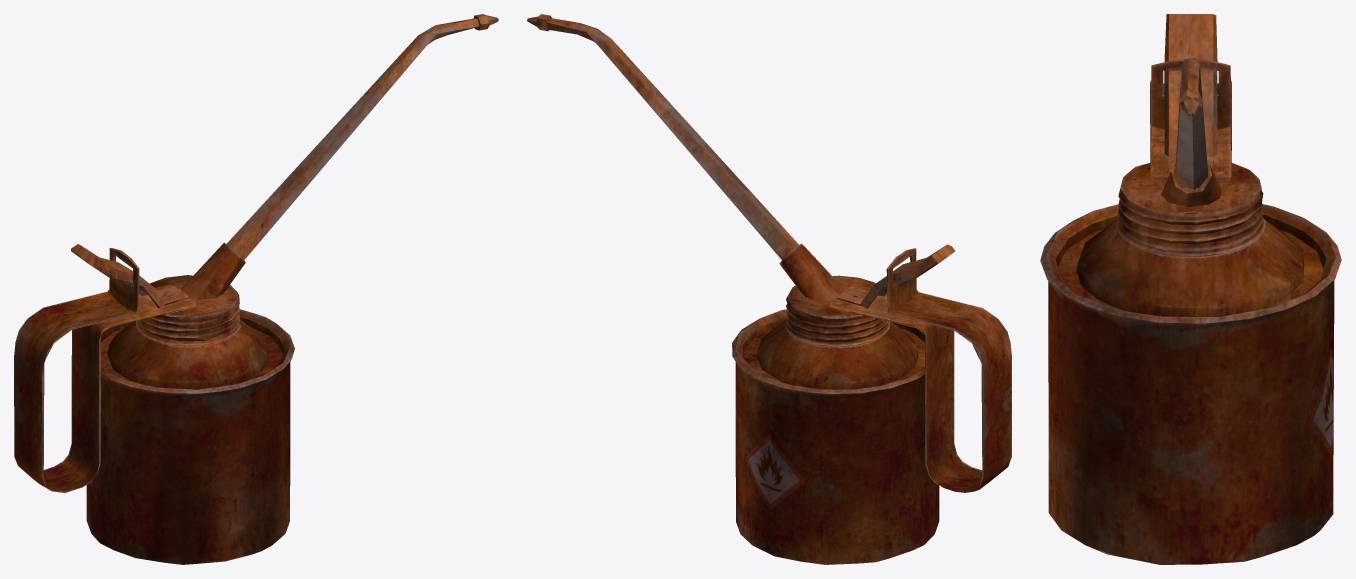
The model's file is small_oil_can_01.glb.
3 views of the same model, side by side, from view 1: azimuth 30°, elevation 25°; view 2: azimuth 150°, elevation 25°; view 3: azimuth 270°, elevation 25° (orthographic). The views are drawn at different scales.
Parts seen in each view (by area): view 1: small_oil_can_01; view 2: small_oil_can_01; view 3: small_oil_can_01.
Boxes of the visible parts, x1,y1,x2,y2 form: small_oil_can_01: [14, 14, 498, 564]; small_oil_can_01: [527, 14, 1011, 564]; small_oil_can_01: [1040, 14, 1341, 564].
Size of what is drawn, in the model's own units: 0.2662 by 0.2367 by 0.1046.
Materials: 1 (1 with a texture image).
